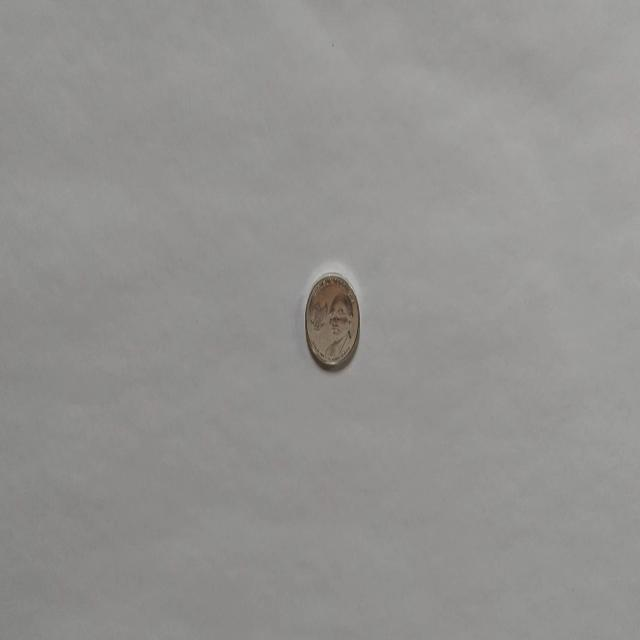lima ratus rupiah: (304, 271, 361, 369)
